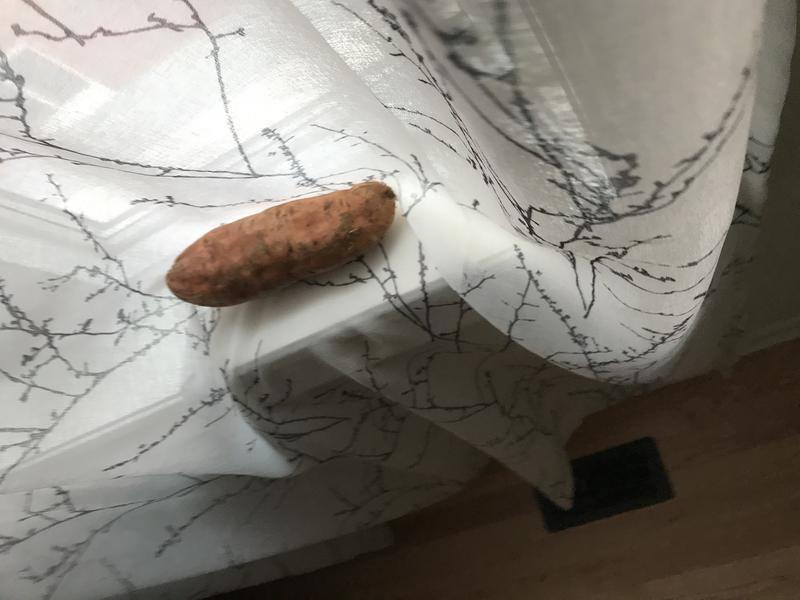sweet_potato: (156, 174, 410, 317)
